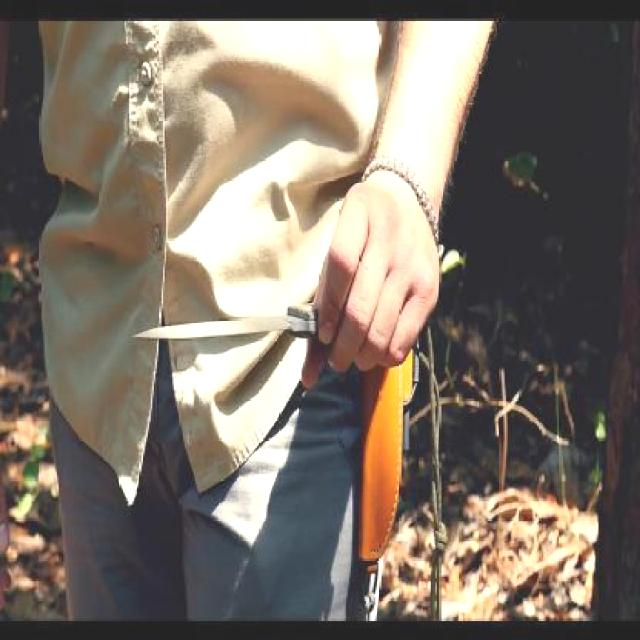knife: (129, 257, 417, 392)
